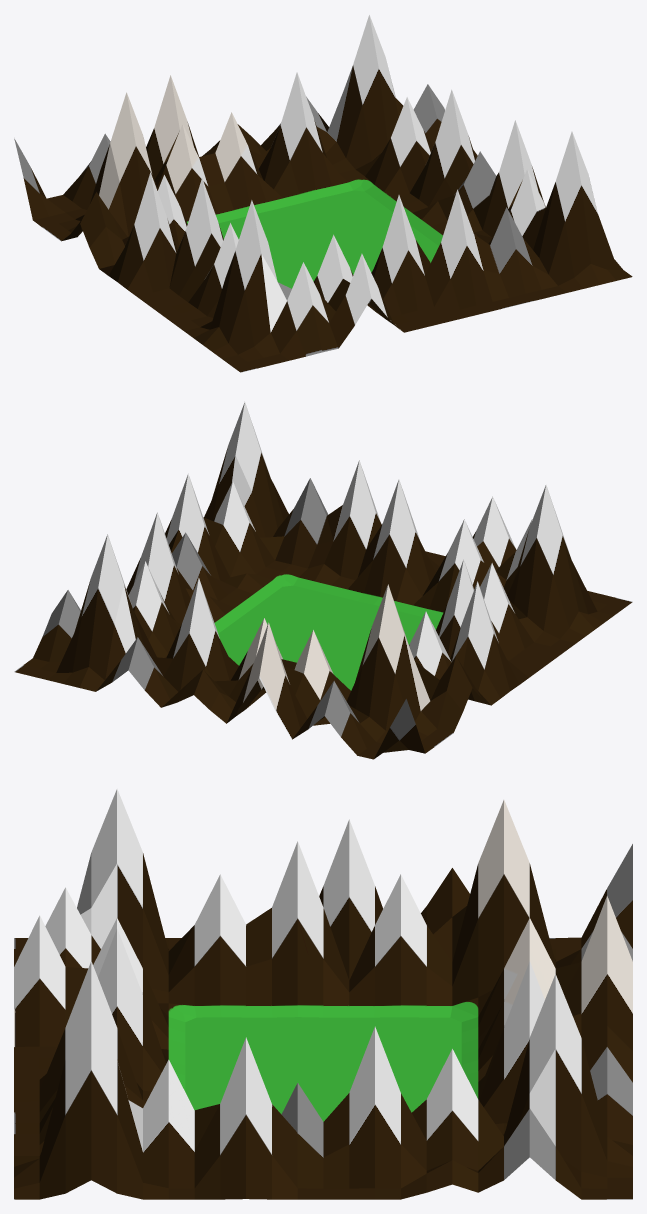
File: Terrain.fbx
3 renders of one model, top to bottom at view 1: azimuth 30°, elevation 25°; view 2: azimuth 150°, elevation 25°; view 3: azimuth 270°, elevation 25°, orthographic. The views are drawn at different scales.
Visible parts, largest first — view 1: Plane; view 2: Plane; view 3: Plane.
Part boxes in pixels (bbox=[...]): Plane: bbox=[14, 15, 632, 372]; Plane: bbox=[14, 402, 632, 759]; Plane: bbox=[14, 788, 632, 1199].
Bounding box in the file's own units: 4000 × 1351 × 4000.
